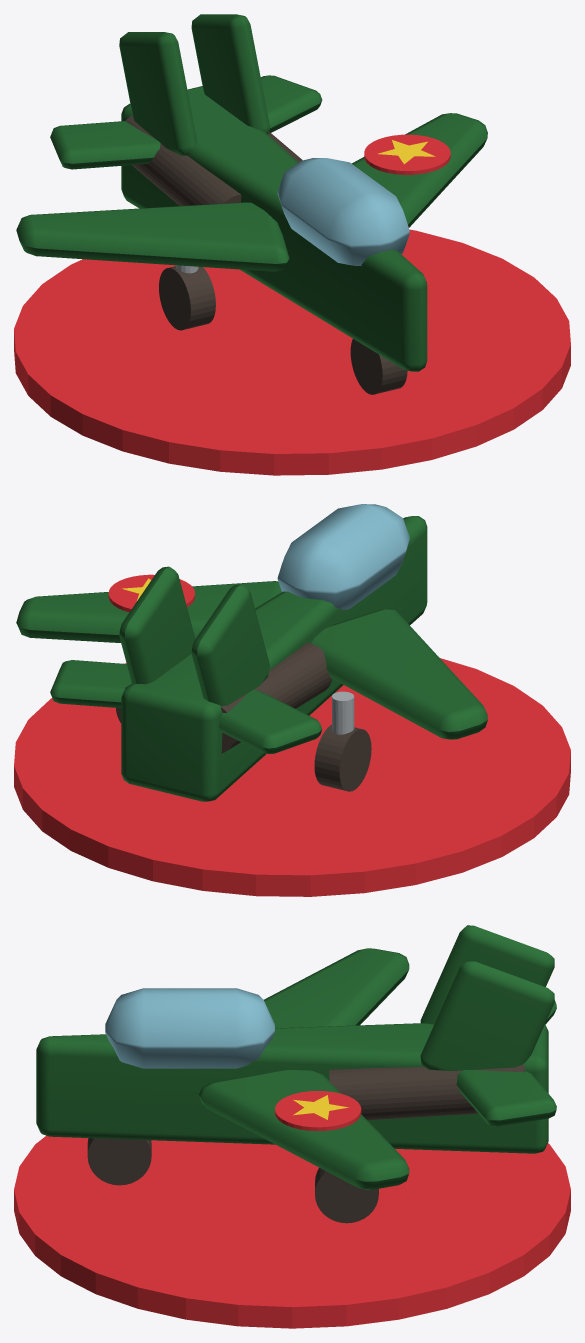
File: vietnam_air_force_lod0.glb
The picture shows the model from 3 angles, top to bottom: view 1: azimuth 30°, elevation 25°; view 2: azimuth 150°, elevation 25°; view 3: azimuth 270°, elevation 25°; orthographic projection.
Parts seen in each view (by area): view 1: base_pedestal, body_hull; view 2: body_hull, base_pedestal; view 3: body_hull, base_pedestal.
Boxes of the visible parts, x1=… form: base_pedestal: x1=14, y1=229, x2=570, y2=475; body_hull: x1=16, y1=14, x2=487, y2=394; body_hull: x1=16, y1=504, x2=487, y2=801; base_pedestal: x1=14, y1=658, x2=570, y2=896; body_hull: x1=36, y1=925, x2=556, y2=1223; base_pedestal: x1=14, y1=1135, x2=570, y2=1328.
Size of the model in its own units: 0.78 by 0.4126 by 0.78.
